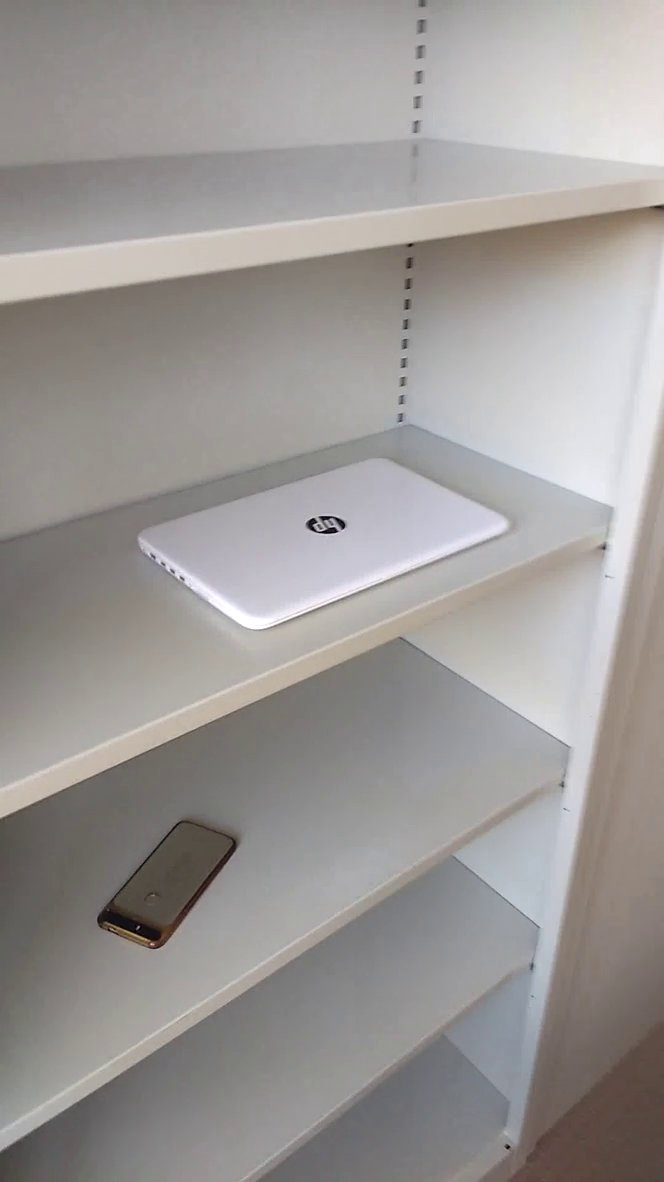laptop: (123, 451, 523, 640)
phone: (87, 807, 252, 958)
